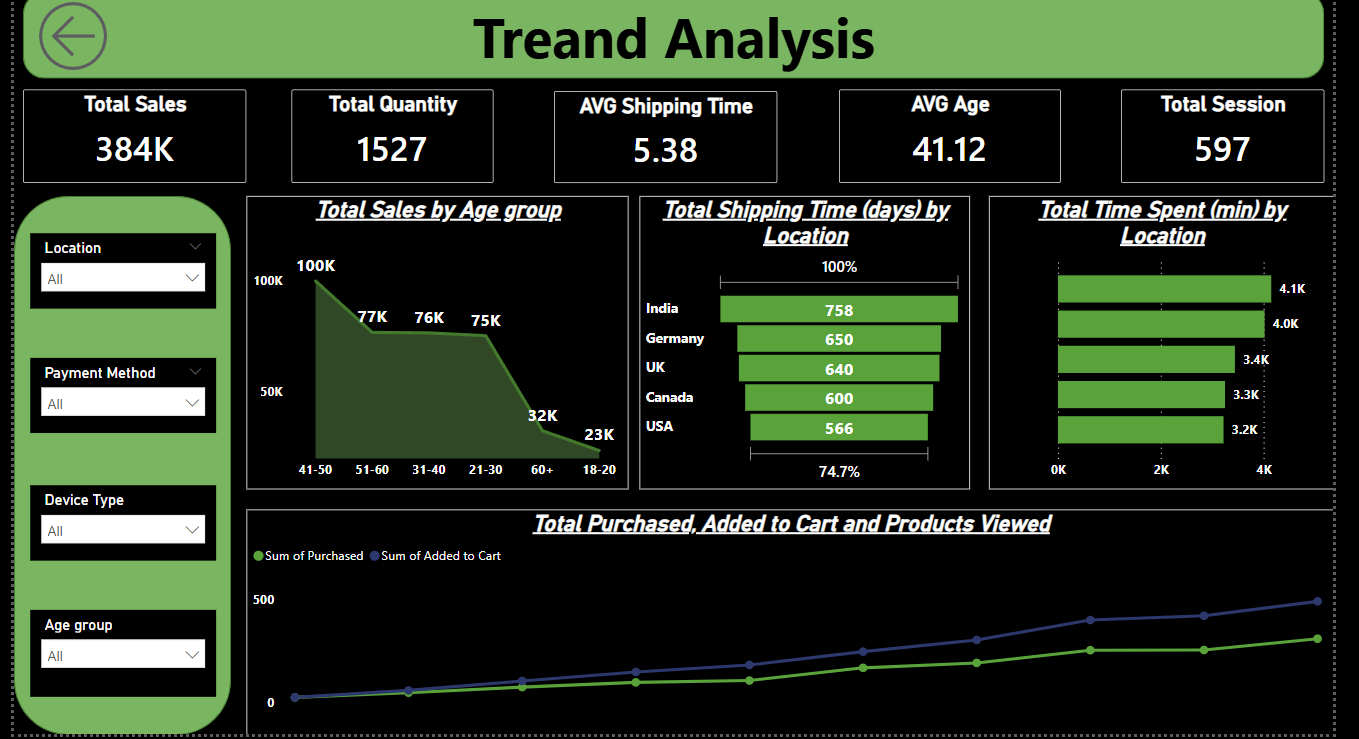

This screenshot's page, from the dashboard's own definition file:
{"tool":"powerbi","page":{"name":"Page 2","canvas":[1280,720],"ordinal":1},"visuals":[{"type":"shape","box":[0,197.5,210.5,523],"z":0},{"type":"card","title":"Total Sales","fields":{"Values":["Sheet1.Total Sales"]},"box":[8.1,93.9,217,90.7],"z":1000,"group":"g1"},{"type":"areaChart","fields":{"Category":["Sheet1.Age group"],"Y":["Sheet1.Total Sales"]},"box":[225.1,197.5,370.8,285],"z":1000},{"type":"card","title":"Total Quantity","fields":{"Values":["Sheet1.Total Quantity"]},"box":[269.2,93.9,195.9,90.7],"z":2000,"group":"g1"},{"type":"clusteredBarChart","title":"Total Time Spent (min) by Location","fields":{"Category":["Sheet1.Location"],"Y":["Sum(Sheet1.Time Spent (min))"]},"box":[945.6,197.5,335.2,285],"z":2000},{"type":"card","title":"AVG Shipping Time","fields":{"Values":["Avg(Sheet1.Shipping Time (days))"]},"box":[523.8,95.5,217,89.1],"z":3000,"group":"g1"},{"type":"lineChart","title":"Total Purchased, Added to Cart and Products Viewed ","fields":{"Y":["Sum(Sheet1.Purchased)","Sum(Sheet1.Added to Cart)"],"Category":["Sheet1.Products Viewed"]},"box":[225.1,502,1055.7,218.6],"z":3000},{"type":"card","title":"AVG Age","fields":{"Values":["Avg(Sheet1.Age)"]},"box":[799.5,93.9,215.4,90.7],"z":4000,"group":"g1"},{"type":"funnel","title":"Total Shipping Time (days) by Location","fields":{"Category":["Sheet1.Location"],"Y":["Sum(Sheet1.Shipping Time (days))"]},"box":[607.2,197.5,320.6,285],"z":4000},{"type":"shape","box":[8.1,0,1263,84.2],"z":5000},{"type":"card","title":"Total Session","fields":{"Values":["CountNonNull(Sheet1.Session ID)"]},"box":[1073.6,93.9,197.5,90.7],"z":5000,"group":"g1"},{"type":"group","id":"g1","title":"Group 1","box":[8.1,93.9,1263,90.7],"z":6000},{"type":"group","id":"g2","title":"Group 2","box":[16.2,234.8,179.7,450.1],"z":7000},{"type":"actionButton","box":[16.2,1.6,100.4,82.6],"z":8000},{"type":"slicer","fields":{"Values":["Sheet1.Location"]},"box":[16.2,234.8,179.7,72.9],"z":9000,"group":"g2"},{"type":"slicer","fields":{"Values":["Sheet1.Device Type"]},"box":[16.2,479.3,179.7,72.9],"z":10000,"group":"g2"},{"type":"slicer","fields":{"Values":["Sheet1.Age group"]},"box":[16.2,600.7,179.7,84.2],"z":11000,"group":"g2"},{"type":"slicer","fields":{"Values":["Sheet1.Payment Method"]},"box":[16.2,356.2,179.7,72.9],"z":13001,"group":"g2"}]}

Visuals, with their boxes on the page's 1280x720 design canvas (x1, y1, x2, y2). These are canvas units, not pixel positions in the 1359x739 screenshot, which may show the page scaled, cropped or inside an application window:
shape: Rect(0, 198, 210, 720)
"Total Sales" card: Rect(8, 94, 225, 185)
areaChart - Sheet1.Age group x Sheet1.Total Sales: Rect(225, 198, 596, 482)
"Total Quantity" card: Rect(269, 94, 465, 185)
"Total Time Spent (min) by Location" clusteredBarChart: Rect(946, 198, 1281, 482)
"AVG Shipping Time" card: Rect(524, 96, 741, 185)
"Total Purchased, Added to Cart and Products Viewed " lineChart: Rect(225, 502, 1281, 721)
"AVG Age" card: Rect(800, 94, 1015, 185)
"Total Shipping Time (days) by Location" funnel: Rect(607, 198, 928, 482)
shape: Rect(8, 0, 1271, 84)
"Total Session" card: Rect(1074, 94, 1271, 185)
"Group 1" group: Rect(8, 94, 1271, 185)
"Group 2" group: Rect(16, 235, 196, 685)
actionButton: Rect(16, 2, 117, 84)
slicer - Sheet1.Location: Rect(16, 235, 196, 308)
slicer - Sheet1.Device Type: Rect(16, 479, 196, 552)
slicer - Sheet1.Age group: Rect(16, 601, 196, 685)
slicer - Sheet1.Payment Method: Rect(16, 356, 196, 429)
